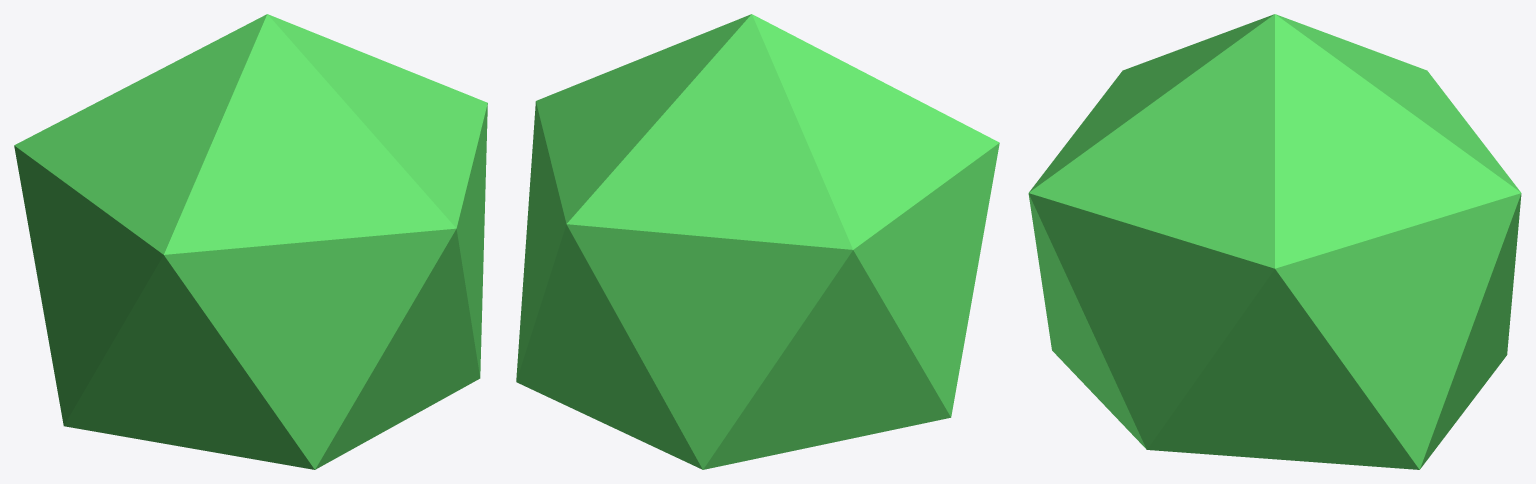
Rendered from Bush.fbx.
The picture shows the model from 3 angles, left to right: view 1: azimuth 30°, elevation 25°; view 2: azimuth 150°, elevation 25°; view 3: azimuth 270°, elevation 25°; orthographic projection. The views are drawn at different scales.
Parts seen in each view (by area): view 1: Bush_LOD0; view 2: Bush_LOD0; view 3: Bush_LOD0.
Boxes of the visible parts, x1,y1,x2,y2 form: Bush_LOD0: (14,14,487,469); Bush_LOD0: (516,14,999,469); Bush_LOD0: (1028,14,1521,469).
Size of what is drawn, in the model's own units: 172 by 164 by 170.
